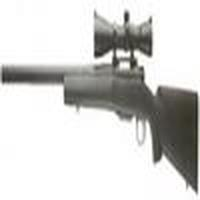gun: (1, 10, 198, 193)
